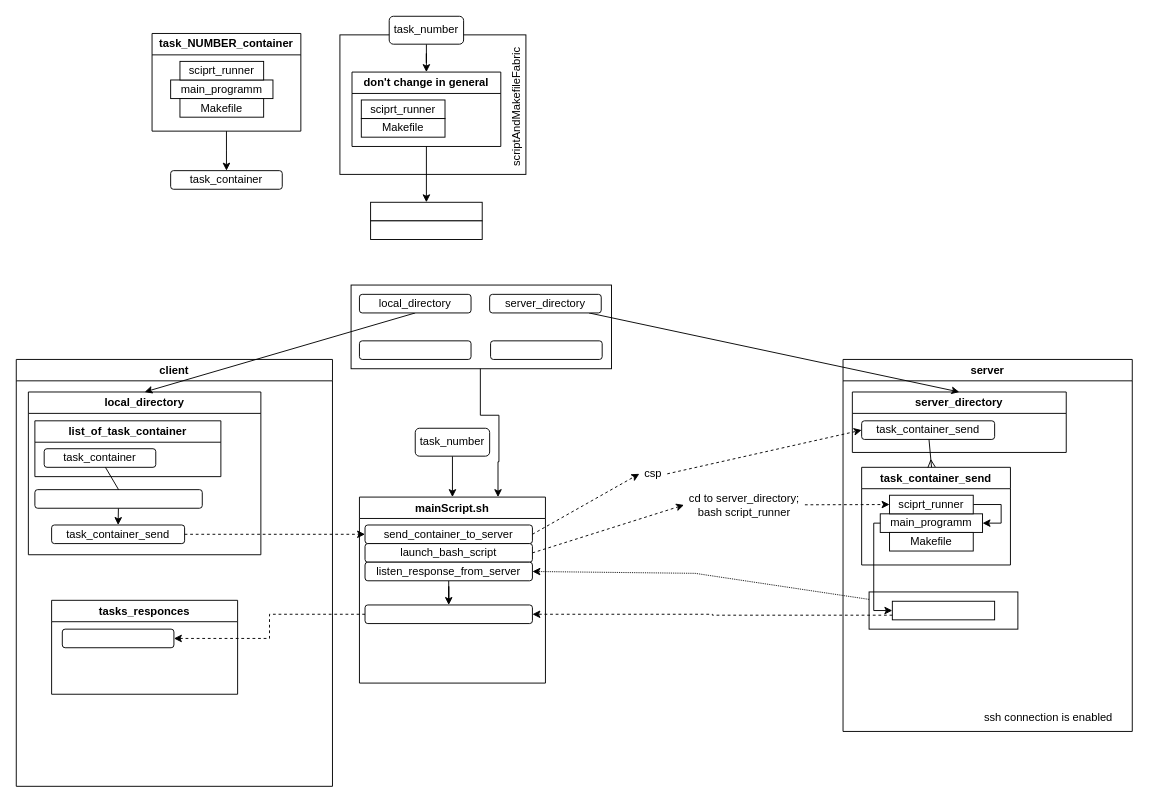
This 1149x803 diagram has some shape labels left out. The shapes that lost their labels are listed below. From the top down, each one's centre as x and y in pixels, then its label:
At pixel 426 211: "task_script_runner".
At pixel 426 229: "task_Makefile".
At pixel 415 349: "username".
At pixel 546 349: "server_address".
At pixel 118 498: "copy_and_rename_container".
At pixel 448 614: "copy_responce_from_server".
At pixel 943 610: "task_output_file".
At pixel 117 638: "task_responce".
